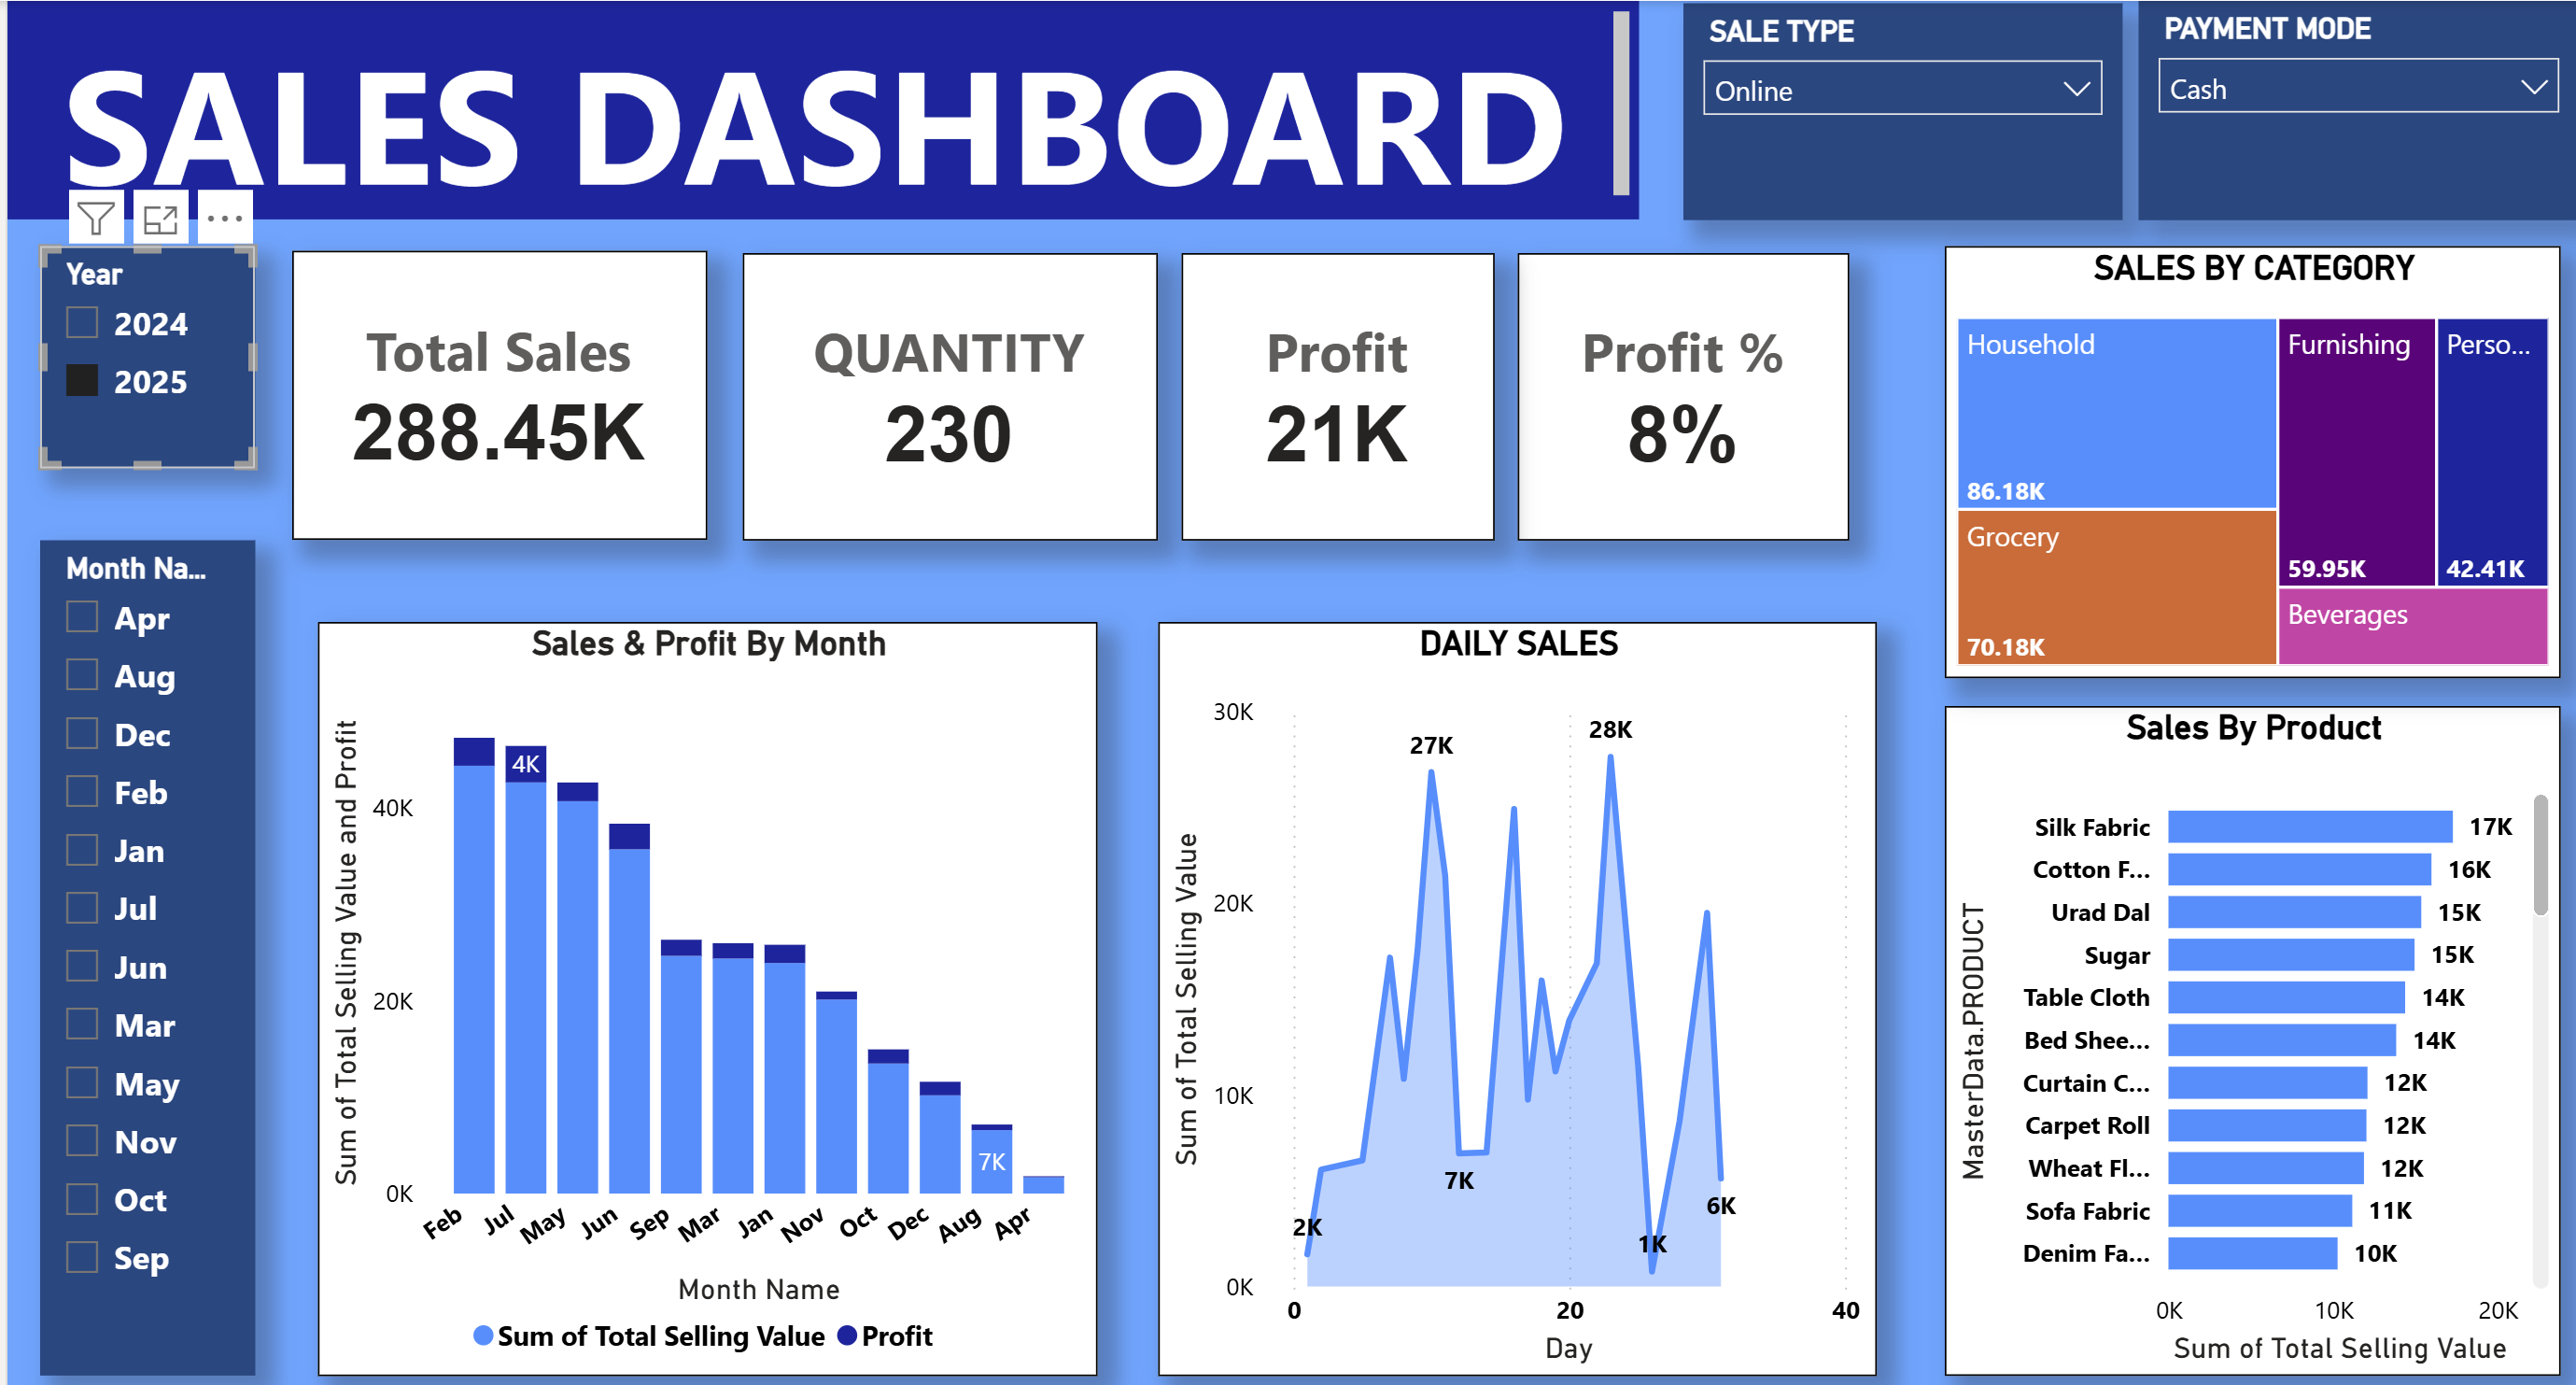

The dashboard page shown, as its layout file describes it:
{"tool":"powerbi","page":{"name":"Page 1","canvas":[1280,720],"ordinal":0},"visuals":[{"type":"textbox","box":[0,0,812.8,108.8],"z":0},{"type":"slicer","fields":{"Values":["InputData.DATE.Variation.Date Hierarchy.Year"]},"box":[16.3,122.1,107,110],"z":1000},{"type":"slicer","fields":{"Values":["InputData.Month Name"]},"box":[16.3,268.6,107,416],"z":2000},{"type":"slicer","fields":{"Values":["InputData.SALE TYPE"]},"box":[834.9,1.2,218.6,108.1],"z":3000},{"type":"slicer","fields":{"Values":["InputData.PAYMENT MODE"]},"box":[1061.6,0,219.8,109.3],"z":4000},{"type":"cardVisual","fields":{"Data":["Sum(InputData.Total Selling Value)"]},"box":[141.9,124.4,207,144.2],"z":5000},{"type":"cardVisual","fields":{"Data":["Sum(InputData.QUANTITY)"]},"box":[366.3,125.6,207,143],"z":6000},{"type":"cardVisual","fields":{"Data":["InputData.Profit %"]},"box":[752.3,125.6,165.1,143],"z":7000},{"type":"cardVisual","fields":{"Data":["InputData.Profit"]},"box":[584.9,125.6,155.8,143],"z":8000},{"type":"columnChart","title":"Sales & Profit By Month","fields":{"Y":["Sum(InputData.Total Selling Value)","InputData.Profit"],"Category":["InputData.Month Name"]},"box":[154.7,309.3,388.4,375.6],"z":8001},{"type":"areaChart","title":"DAILY SALES","fields":{"Category":["InputData.DATE.Variation.Date Hierarchy.Day"],"Y":["Sum(InputData.Total Selling Value)"]},"box":[573.3,309.3,358.1,375.6],"z":8002},{"type":"clusteredBarChart","title":"Sales By Product","fields":{"Y":["Sum(InputData.Total Selling Value)"],"Category":["InputData.MasterData.PRODUCT"]},"box":[965.1,351.2,307,333.7],"z":8003},{"type":"treemap","title":"SALES BY CATEGORY","fields":{"Values":["Sum(InputData.Total Selling Value)"],"Group":["InputData.MasterData.CATEGORY"]},"box":[965.1,122.1,307,215.1],"z":8004}]}

Visuals, with their boxes on the page's 1280x720 design canvas (x1, y1, x2, y2). These are canvas units, not pixel positions in the 2576x1385 screenshot, which may show the page scaled, cropped or inside an application window:
textbox: 0:0:813:109
slicer - InputData.DATE.Variation.Date Hierarchy.Year: 16:122:123:232
slicer - InputData.Month Name: 16:269:123:685
slicer - InputData.SALE TYPE: 835:1:1054:109
slicer - InputData.PAYMENT MODE: 1062:0:1281:109
cardVisual - Sum(InputData.Total Selling Value): 142:124:349:269
cardVisual - Sum(InputData.QUANTITY): 366:126:573:269
cardVisual - InputData.Profit %: 752:126:917:269
cardVisual - InputData.Profit: 585:126:741:269
"Sales & Profit By Month" columnChart: 155:309:543:685
"DAILY SALES" areaChart: 573:309:931:685
"Sales By Product" clusteredBarChart: 965:351:1272:685
"SALES BY CATEGORY" treemap: 965:122:1272:337
